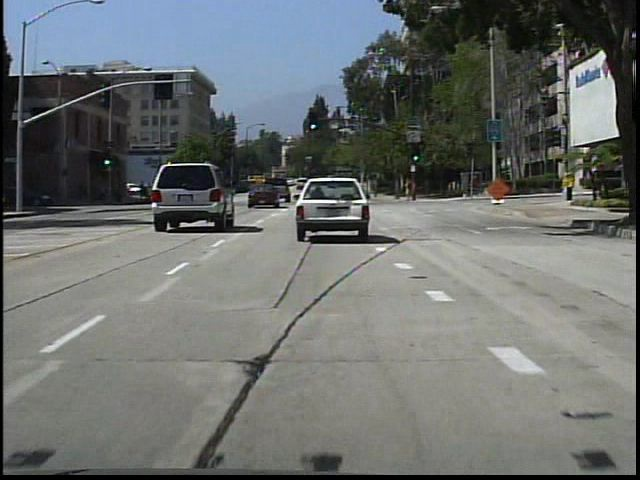person: (403, 173, 418, 206)
